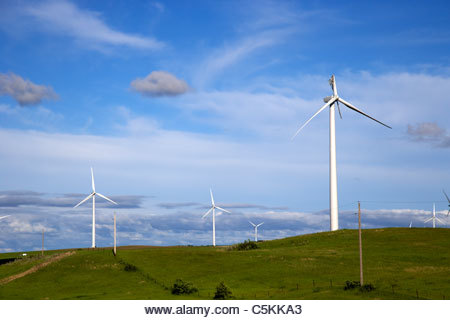faulty: (288, 73, 397, 163)
working: (72, 164, 115, 234)
